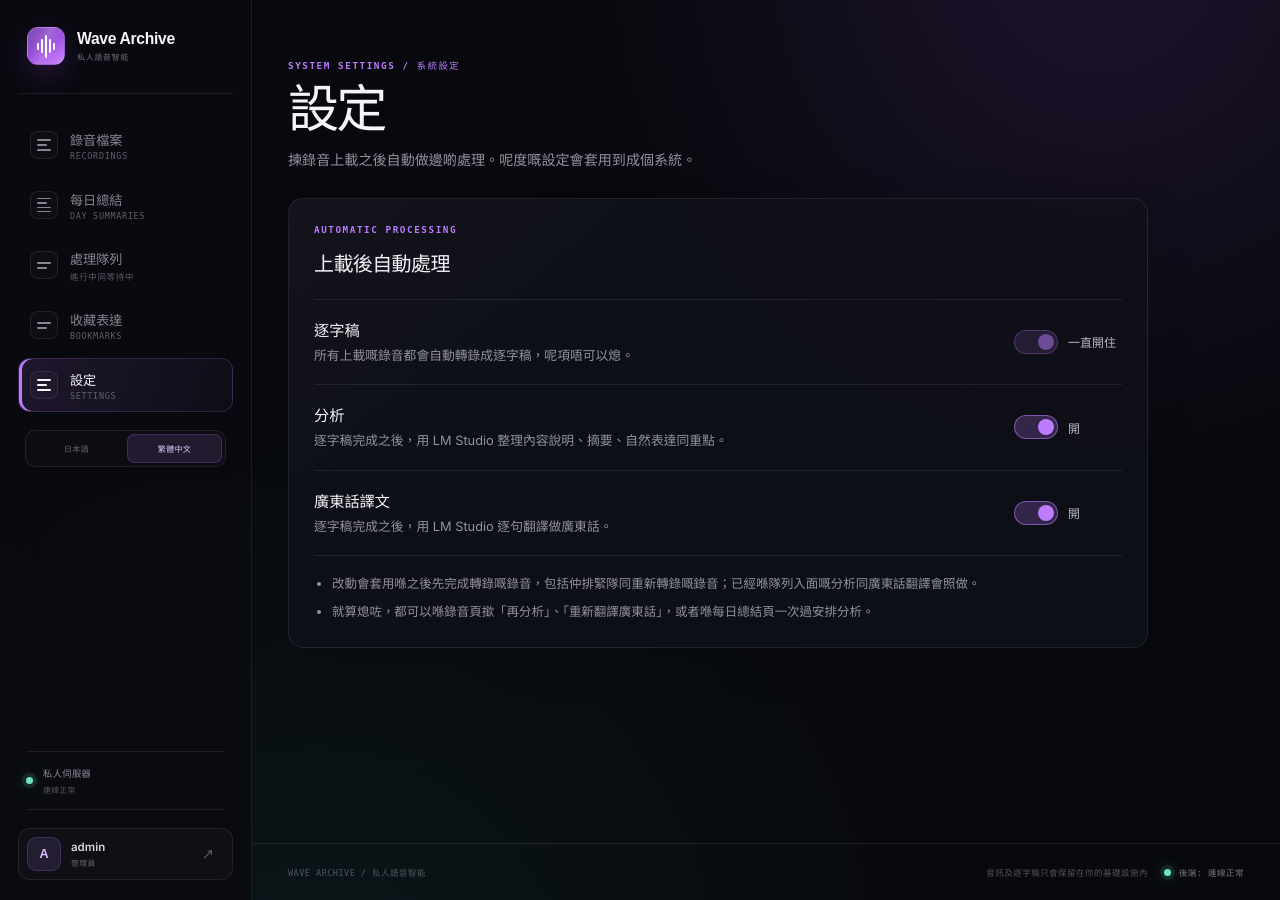
Scenario: settings page › keeps the stored state and says so when a change is not saved
This screenshot has width=1280, height=900.
Step 1. Click the switch named "分析" → (1047, 427), box top-left (1014, 415), bottom-right (1080, 439)
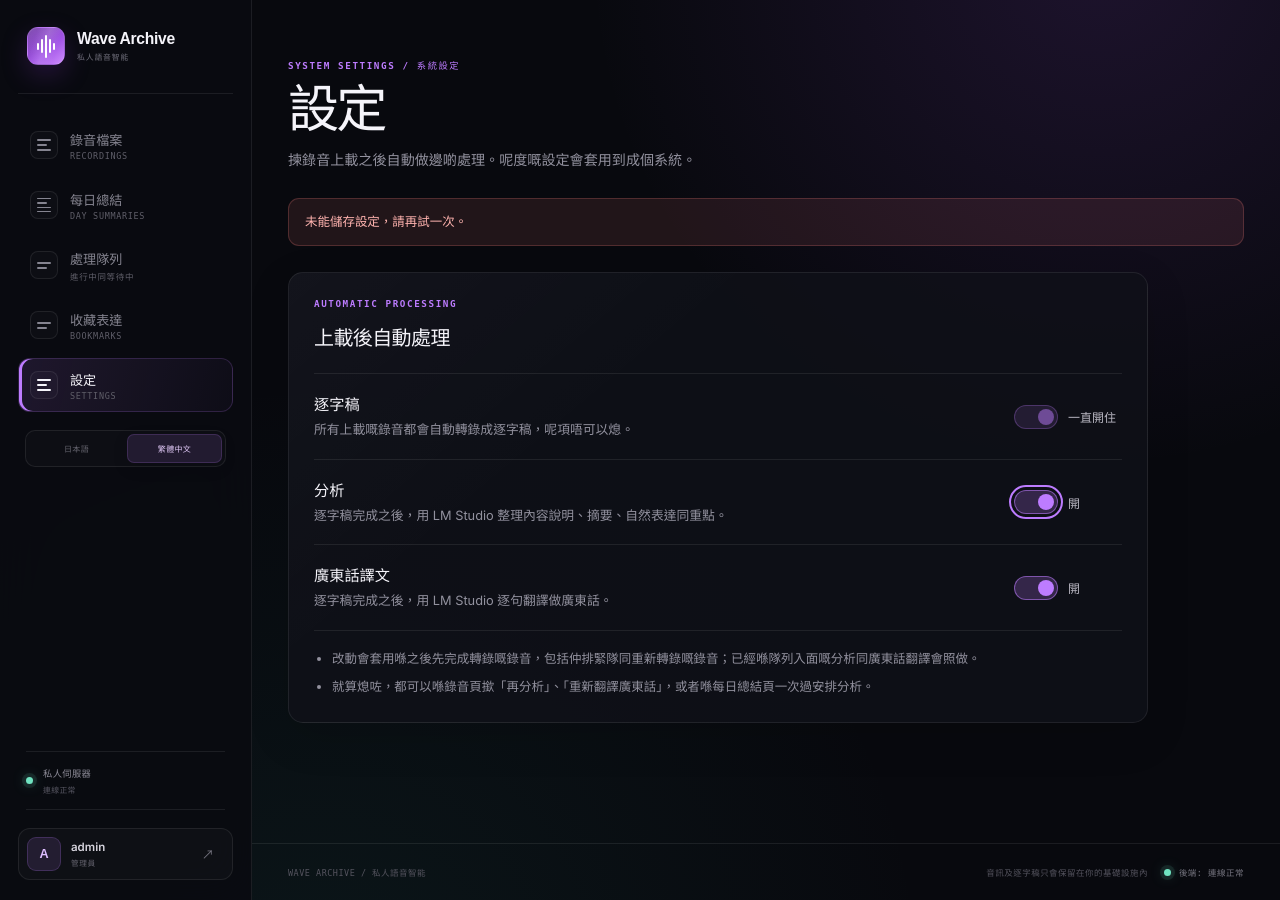
Expected: the switch named "分析" is checked, top-left (1014, 490), bottom-right (1080, 514)
Now the message "未能儲存設定，請再試一次。" is shown, box top-left (288, 198), bottom-right (1244, 246)
